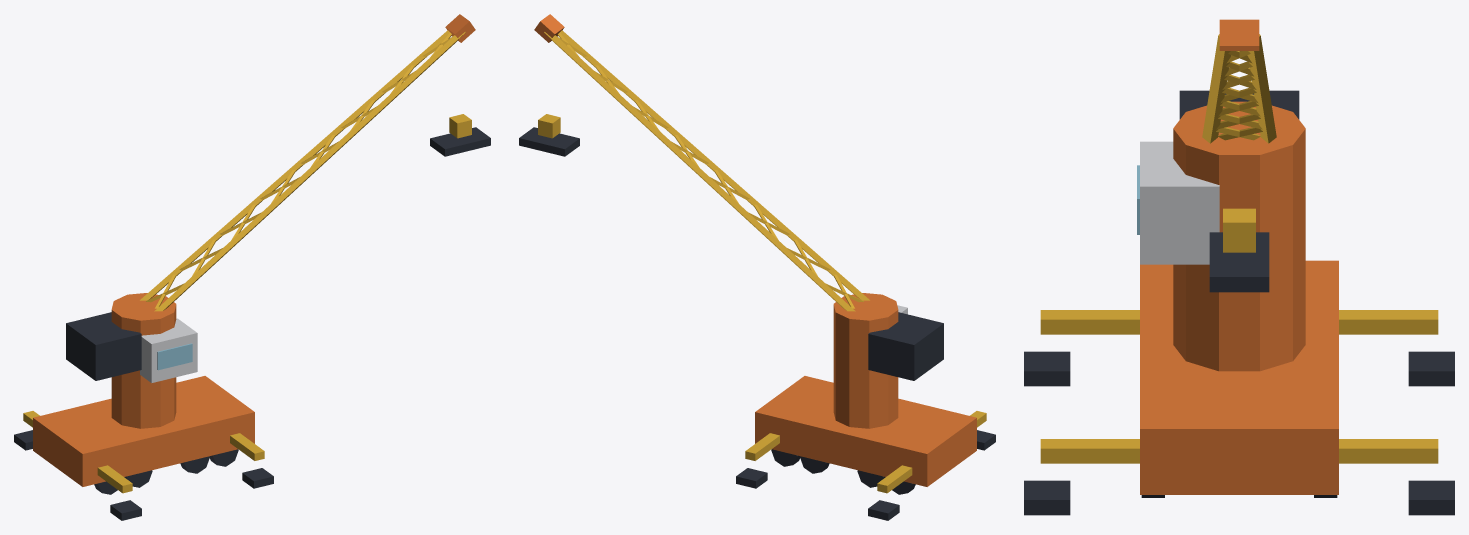
File: crane_mobile.glb
3 renders of one model, left to right at view 1: azimuth 30°, elevation 25°; view 2: azimuth 150°, elevation 25°; view 3: azimuth 270°, elevation 25°, orthographic. The views are drawn at different scales.
Visible parts, largest first — view 1: base, boom, hook; view 2: base, boom, hook; view 3: base, boom, hook.
Boxes of the visible parts, <box> form: base: <box>14,293,273,520</box>; boom: <box>140,14,475,311</box>; hook: <box>430,114,490,156</box>; base: <box>736,293,995,520</box>; boom: <box>534,14,869,311</box>; hook: <box>519,114,579,156</box>; base: <box>1024,90,1454,515</box>; boom: <box>1202,19,1276,143</box>; hook: <box>1209,208,1269,292</box>.
Bounding box in the file's own units: 14.82 × 12.22 × 6.5.
